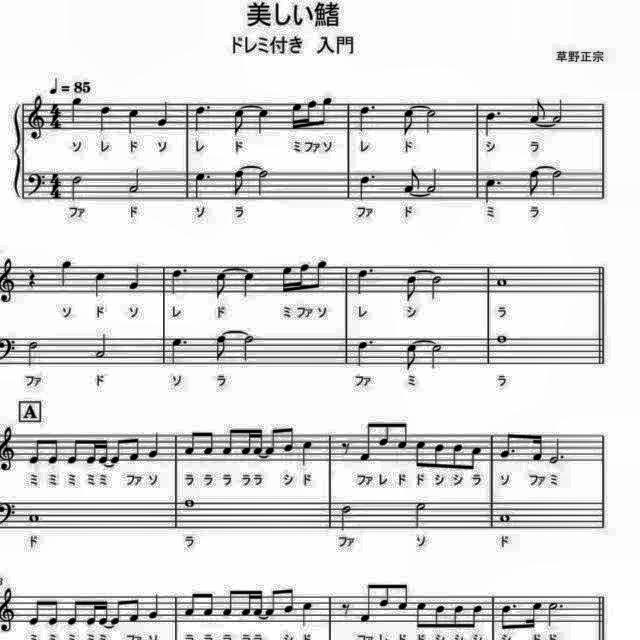Bass-clef: (26, 169, 48, 199), (0, 334, 18, 364), (1, 498, 20, 526)
Eighth-note: (358, 416, 374, 464), (358, 580, 374, 624), (210, 270, 230, 302), (498, 430, 518, 462), (526, 96, 548, 125), (314, 259, 331, 293), (231, 108, 249, 140), (400, 166, 420, 194), (220, 425, 236, 459), (66, 596, 82, 630), (318, 95, 334, 129), (24, 597, 40, 631), (404, 341, 421, 373), (399, 108, 417, 138), (404, 274, 422, 304), (394, 421, 410, 454), (394, 580, 410, 612), (280, 424, 296, 456), (280, 584, 296, 616), (44, 436, 60, 468), (66, 436, 82, 468), (220, 586, 236, 618), (24, 434, 40, 466), (213, 332, 229, 364), (450, 441, 466, 471), (430, 441, 446, 471), (414, 601, 430, 631), (128, 434, 144, 464), (182, 589, 198, 619), (128, 595, 144, 625), (376, 580, 392, 610), (526, 167, 542, 197), (232, 168, 248, 198), (499, 604, 516, 632), (182, 429, 198, 458), (265, 426, 279, 459), (48, 593, 62, 625), (414, 438, 428, 470), (468, 602, 484, 630), (470, 442, 486, 470), (112, 598, 126, 630), (265, 586, 279, 618), (378, 418, 392, 450), (202, 587, 216, 617), (202, 428, 216, 458), (112, 434, 126, 464), (451, 602, 465, 630), (432, 603, 446, 631)
Eighth-rest: (338, 598, 354, 618), (338, 440, 354, 458)
Full-note: (25, 512, 43, 526), (494, 275, 511, 289), (496, 513, 512, 527), (494, 334, 511, 346), (181, 498, 195, 510)
Half-dot: (548, 436, 568, 468), (546, 599, 566, 629)
Half-note: (92, 331, 111, 361), (25, 338, 43, 369), (412, 501, 430, 532), (240, 334, 258, 364), (127, 165, 145, 195), (68, 170, 84, 202), (550, 166, 566, 198), (253, 167, 270, 197), (550, 96, 568, 124), (423, 166, 441, 194), (422, 108, 440, 136), (338, 503, 354, 533), (428, 343, 444, 371), (428, 273, 444, 301)
Quarter-dot: (352, 336, 376, 369), (352, 266, 376, 298), (167, 264, 189, 298), (355, 102, 377, 134), (356, 172, 378, 204), (169, 334, 191, 366), (482, 109, 506, 138), (192, 168, 212, 200), (482, 174, 504, 203)
Quarter-note: (189, 102, 211, 134), (238, 270, 258, 300), (96, 102, 114, 134), (127, 262, 145, 294), (155, 98, 173, 130), (58, 258, 76, 290), (253, 105, 271, 136), (92, 269, 110, 299), (68, 94, 84, 126), (126, 106, 142, 138), (146, 432, 162, 462), (146, 591, 162, 621), (300, 438, 316, 468), (298, 600, 314, 630)
Quarter-rest: (24, 266, 40, 290)
Sixteenth-note: (528, 432, 546, 464), (528, 600, 546, 632), (278, 263, 294, 297), (288, 98, 304, 130), (240, 587, 254, 619), (240, 427, 254, 459), (296, 262, 310, 294), (84, 598, 98, 630), (305, 98, 319, 130), (97, 596, 111, 628), (85, 436, 99, 466), (98, 436, 110, 468), (252, 426, 264, 458), (253, 589, 264, 621)
Treble-clef: (23, 93, 44, 143), (1, 584, 20, 636), (1, 423, 20, 475), (0, 256, 18, 306)
